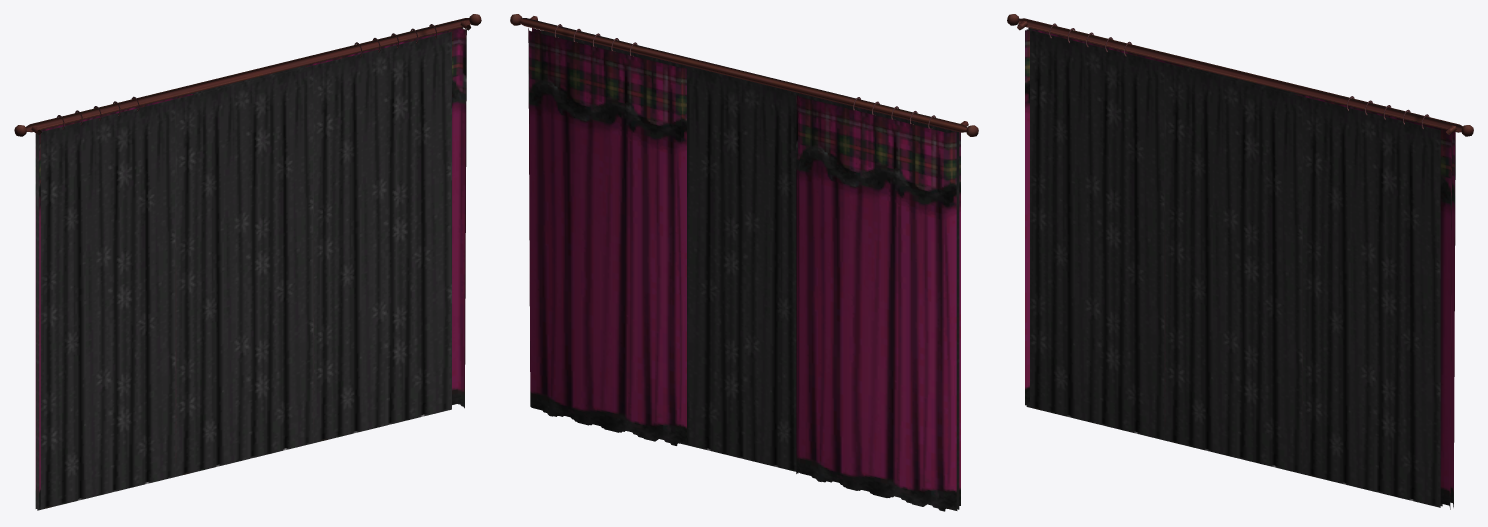
The model's file is furni_0200331_01.FBX.
The picture shows the model from 3 angles, left to right: view 1: azimuth 30°, elevation 25°; view 2: azimuth 150°, elevation 25°; view 3: azimuth 330°, elevation 25°; orthographic projection.
Visible parts, largest first — view 1: furni_0200331_01; view 2: furni_0200331_01; view 3: furni_0200331_01.
Part boxes in pixels (box(x1,y1,x2,y2)): furni_0200331_01: box(14, 14, 481, 510); furni_0200331_01: box(510, 14, 978, 511); furni_0200331_01: box(1007, 14, 1473, 509).
Size of the model in its own units: 353 by 282 by 13.37.
Materials: 2 (2 with a texture image).
